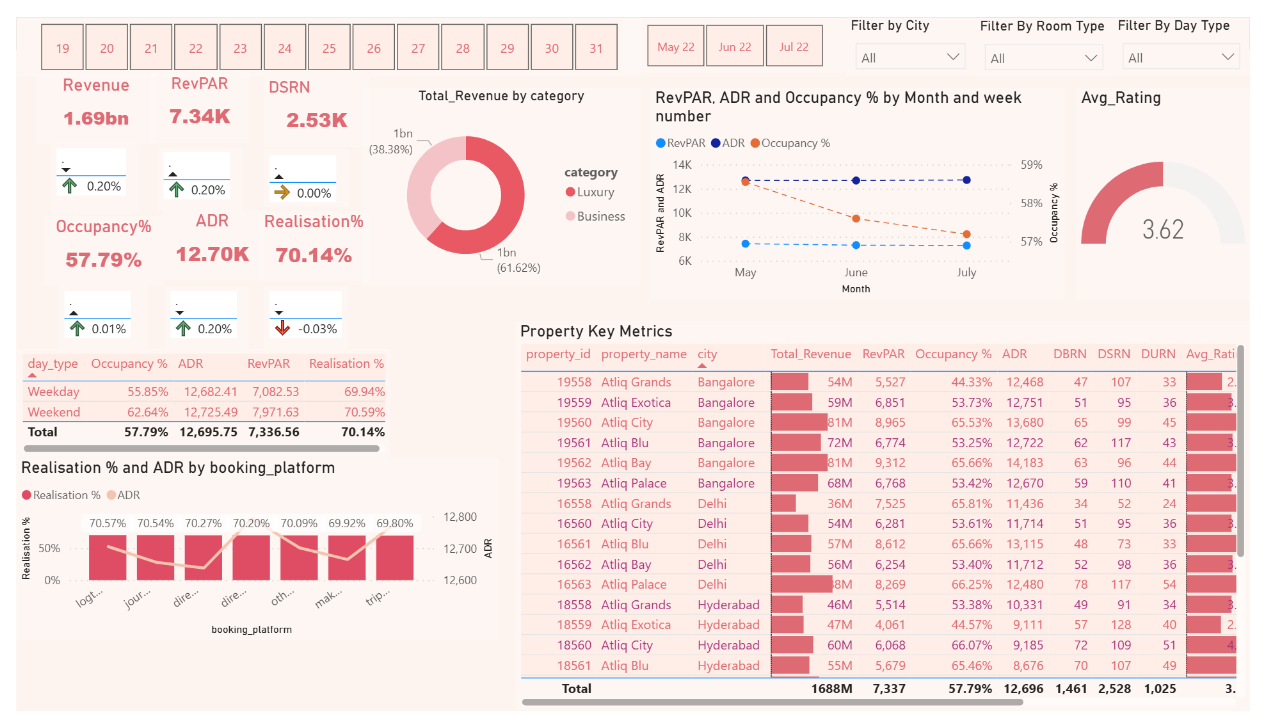

Layout of this report page (visuals, bound fields, positions):
{"tool":"powerbi","page":{"name":"Home","canvas":[1280,720],"ordinal":0},"visuals":[{"type":"tableEx","title":"Property Key Metrics","fields":{"Values":["dimhotels.property_id","dimhotels.property_name","dimhotels.city","Key_Measures (2).Total_Revenue","Key_Measures (2).RevPAR","Key_Measures (2).Occupancy %","Key_Measures (2).ADR","Key_Measures (2).DBRN","Key_Measures (2).DSRN","Key_Measures (2).DURN","Key_Measures (2).Avg_Rating","Key_Measures (2).Realisation %"]},"box":[518.3,315.4,761.6,404.6],"z":0},{"type":"slicer","title":"Filter by City","fields":{"Values":["dimhotels.city"]},"box":[861,0,134,61],"z":1000},{"type":"slicer","title":"Filter By Room Type","fields":{"Values":["dimrooms.room_class"]},"box":[995,1,143,61],"z":2000},{"type":"slicer","title":"Filter By Day Type","fields":{"Values":["dimdate.day_type"]},"box":[1138,0,142,61],"z":3000},{"type":"slicer","title":"Filter By Month","fields":{"Values":["dimdate.mmm yy"]},"box":[629,1,232,57],"z":4000},{"type":"slicer","title":"Filter By Week","fields":{"Values":["dimdate.wn"]},"box":[0,0,648,62],"z":5000},{"type":"card","title":"Revenue","fields":{"Values":["Key_Measures (2).Total_Revenue"]},"box":[21,59,124,73],"z":6000},{"type":"tableEx","title":"Revenue WoW Change","fields":{"Values":["Key_Measures (2).Rev WoW Change%"]},"box":[36,131,92,74],"z":7000},{"type":"card","title":"RevPAR","fields":{"Values":["Key_Measures (2).RevPAR"]},"box":[139,58,103,73],"z":8000},{"type":"donutChart","fields":{"Category":["dimhotels.category"],"Y":["Key_Measures (2).Total_Revenue"]},"box":[359,73,289,206],"z":9000},{"type":"tableEx","fields":{"Values":["Key_Measures (2).RevPAR WoW Change%"]},"box":[147,135,88,65],"z":10000},{"type":"card","title":"DSRN","fields":{"Values":["Key_Measures (2).DSRN"]},"box":[257,62,110,73],"z":11000},{"type":"tableEx","fields":{"Values":["Key_Measures (2).DSRN WoW Change%"]},"box":[257,138,89,59],"z":12000},{"type":"lineChart","title":"RevPAR, ADR and Occupancy % by Month and week number","fields":{"Y":["Key_Measures (2).RevPAR","Key_Measures (2).ADR"],"Category":["dimdate.mmm yy.Variation.Date Hierarchy.Month","dimdate.wn"],"Y2":["Key_Measures (2).Occupancy %"]},"box":[658,73,430,220],"z":14000},{"type":"card","title":"Occupancy%","fields":{"Values":["Key_Measures (2).Occupancy %"]},"box":[29,206,124,73],"z":15000},{"type":"tableEx","title":"Revenue WoW Change","fields":{"Values":["Key_Measures (2).Occupancy WoW Change%"]},"box":[44,279,93,65],"z":16000},{"type":"card","title":"ADR","fields":{"Values":["Key_Measures (2).ADR"]},"box":[151,200,105,73],"z":17000},{"type":"card","title":"Realisation%","fields":{"Values":["Key_Measures (2).Realisation %"]},"box":[251,201,116,73],"z":18000},{"type":"tableEx","fields":{"Values":["Key_Measures (2).RevPAR WoW Change%"]},"box":[154,279,88,65],"z":19000},{"type":"tableEx","fields":{"Values":["Key_Measures (2).Realisation WoW Change%"]},"box":[257,279,88,65],"z":20000},{"type":"tableEx","fields":{"Values":["dimdate.day_type","Key_Measures (2).Occupancy %","Key_Measures (2).ADR","Key_Measures (2).RevPAR","Key_Measures (2).Realisation %"]},"box":[1,344,387,113],"z":21000},{"type":"lineClusteredColumnComboChart","fields":{"Category":["fact_bookings.booking_platform"],"Y":["Key_Measures (2).Realisation %"],"Y2":["Key_Measures (2).ADR"]},"box":[0,457,501,189],"z":22000},{"type":"gauge","fields":{"Y":["Key_Measures (2).Avg_Rating"]},"box":[1100,73,180,220],"z":23000}]}

Visuals, with their boxes in screenshot pixels (x1, y1, x2, y2), scaled from the page's 1280x720 canvas onto the 1276x728 screenshot:
"Property Key Metrics" tableEx: select_region(517, 319, 1275, 727)
"Filter by City" slicer: select_region(858, 0, 992, 62)
"Filter By Room Type" slicer: select_region(992, 1, 1134, 63)
"Filter By Day Type" slicer: select_region(1134, 0, 1275, 62)
"Filter By Month" slicer: select_region(627, 1, 858, 59)
"Filter By Week" slicer: select_region(0, 0, 646, 63)
"Revenue" card: select_region(21, 60, 145, 133)
"Revenue WoW Change" tableEx: select_region(36, 132, 128, 207)
"RevPAR" card: select_region(139, 59, 241, 132)
donutChart - dimhotels.category x Key_Measures (2).Total_Revenue: select_region(358, 74, 646, 282)
tableEx - Key_Measures (2).RevPAR WoW Change%: select_region(147, 136, 234, 202)
"DSRN" card: select_region(256, 63, 366, 136)
tableEx - Key_Measures (2).DSRN WoW Change%: select_region(256, 140, 345, 199)
"RevPAR, ADR and Occupancy % by Month and week number" lineChart: select_region(656, 74, 1085, 296)
"Occupancy%" card: select_region(29, 208, 153, 282)
"Revenue WoW Change" tableEx: select_region(44, 282, 137, 348)
"ADR" card: select_region(151, 202, 255, 276)
"Realisation%" card: select_region(250, 203, 366, 277)
tableEx - Key_Measures (2).RevPAR WoW Change%: select_region(154, 282, 241, 348)
tableEx - Key_Measures (2).Realisation WoW Change%: select_region(256, 282, 344, 348)
tableEx - dimdate.day_type x Key_Measures (2).Occupancy %: select_region(1, 348, 387, 462)
lineClusteredColumnComboChart - fact_bookings.booking_platform x Key_Measures (2).Realisation %: select_region(0, 462, 499, 653)
gauge - Key_Measures (2).Avg_Rating: select_region(1097, 74, 1275, 296)
